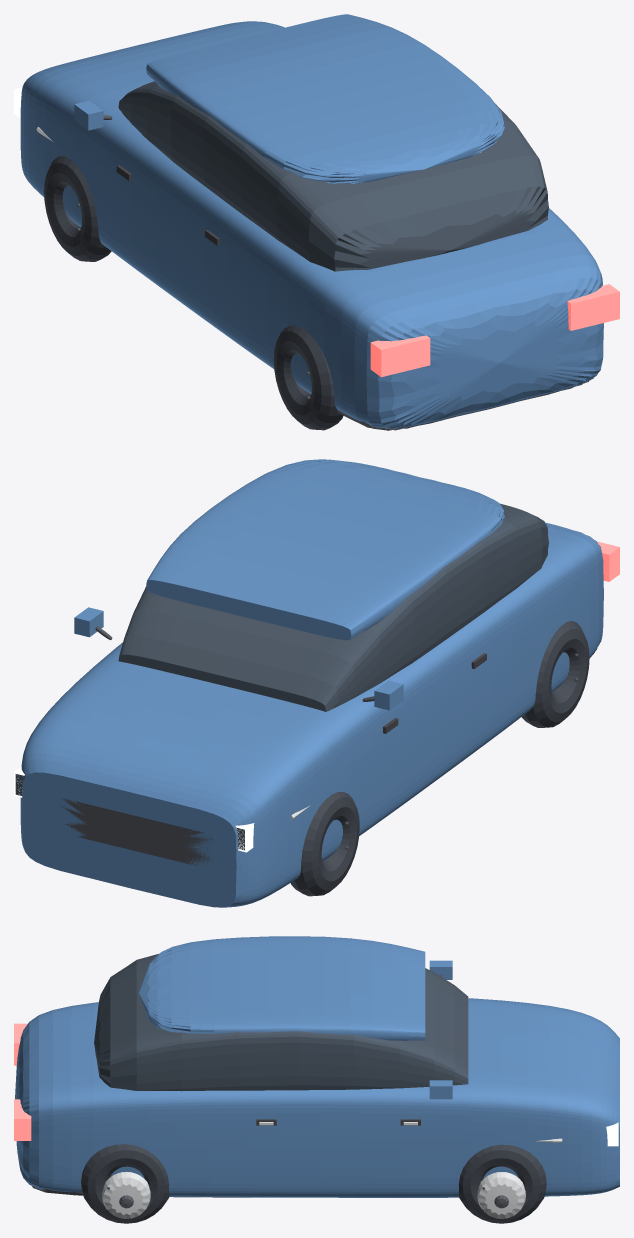
File: car_azul.glb
The picture shows the model from 3 angles, top to bottom: view 1: azimuth 30°, elevation 25°; view 2: azimuth 150°, elevation 25°; view 3: azimuth 270°, elevation 25°; orthographic projection. The views are drawn at different scales.
Parts seen in each view (by area): view 1: Hatch, WheelRL, WheelFL; view 2: Hatch, WheelFL, WheelRL; view 3: Hatch, WheelRR, WheelFR.
Boxes of the visible parts, x1,y1,x2,y2 form: Hatch: [14, 14, 619, 430]; WheelRL: [273, 325, 343, 430]; WheelFL: [44, 156, 111, 261]; Hatch: [14, 459, 619, 907]; WheelFL: [290, 792, 359, 896]; WheelRL: [522, 621, 589, 727]; Hatch: [14, 936, 619, 1197]; WheelRR: [81, 1144, 169, 1223]; WheelFR: [458, 1144, 546, 1223].
Bounding box in the file's own units: 2.06 × 1.49 × 4.2.
